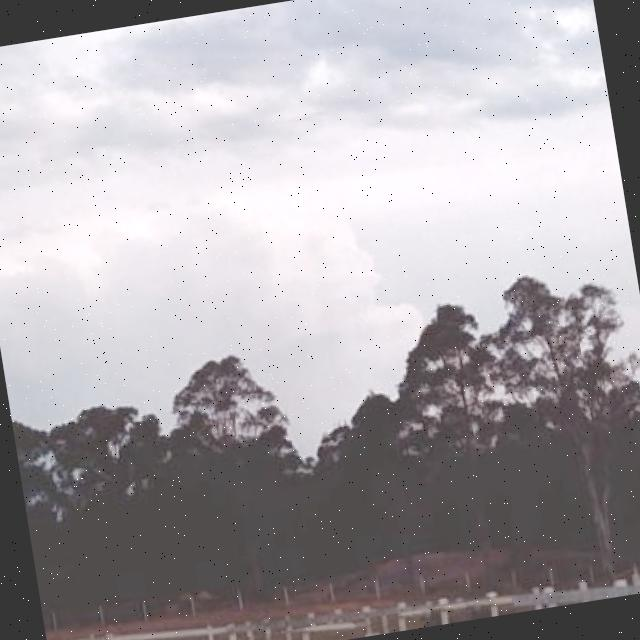Cs: (1, 1, 632, 339)
